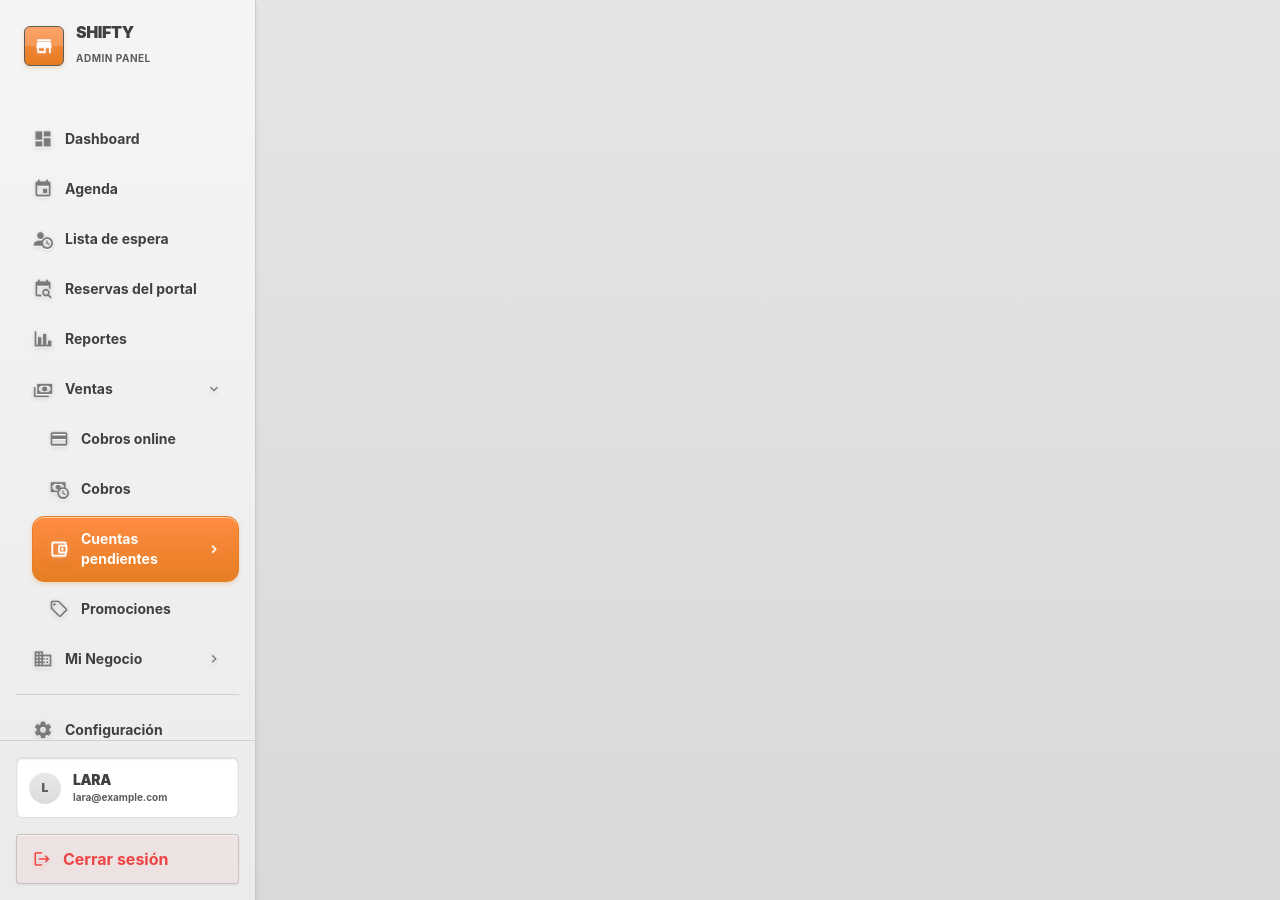
Test: Sidebar: grupos que siguen a la ruta (F11a-11) › cerrar el grupo de la pagina actual lo deja cerrado
This screenshot has width=1280, height=900.
Expected: the link "Cuentas pendientes" is shown, [32,516,239,582]
Click the button "Ventas" at (128, 389), box [16,366,239,412]
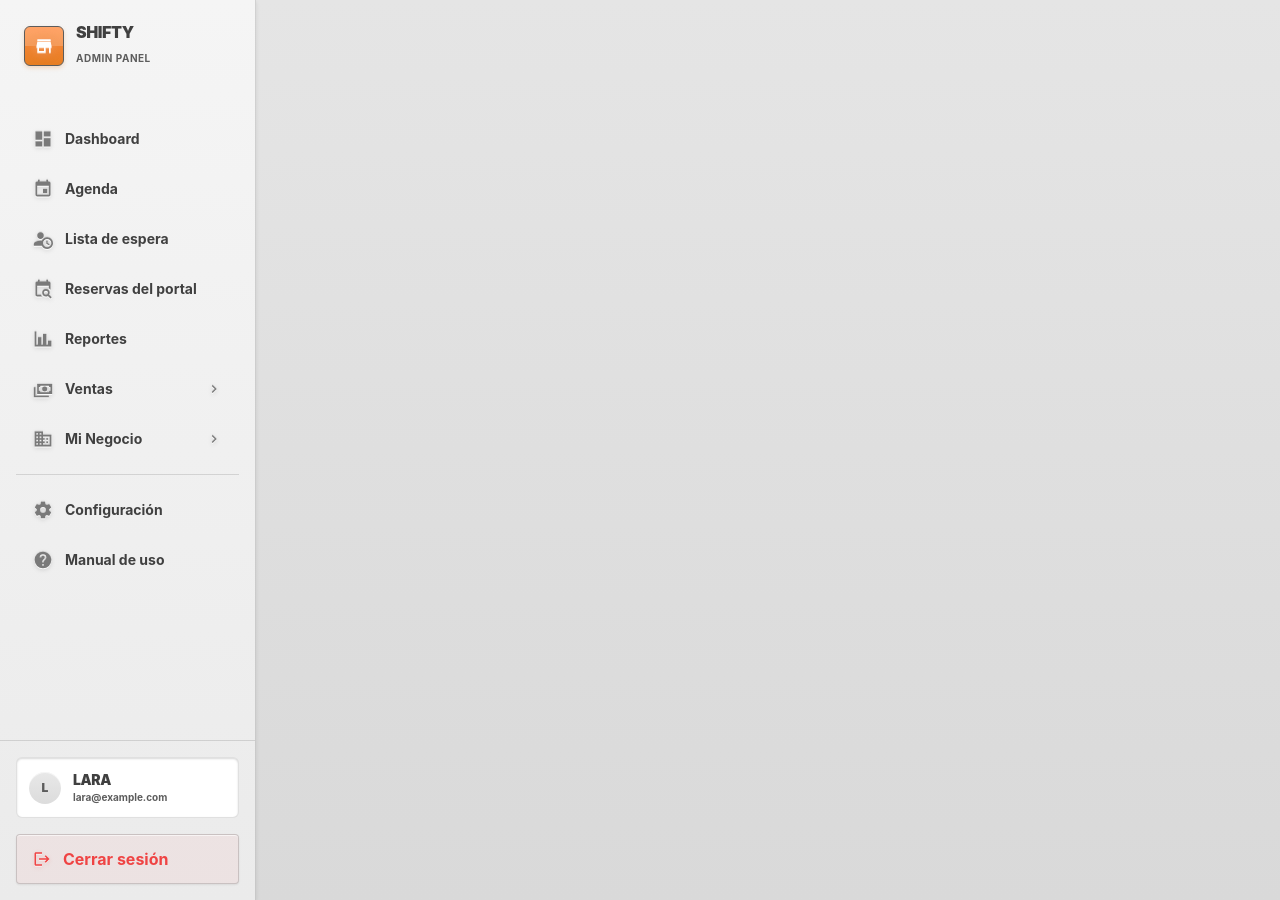
Now the link "Cuentas pendientes" is gone
